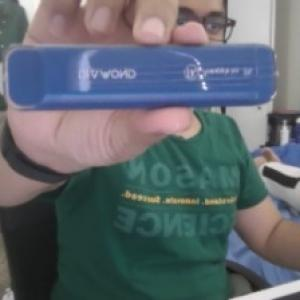Diamond-E-Ciggirate: (2, 39, 291, 116)
